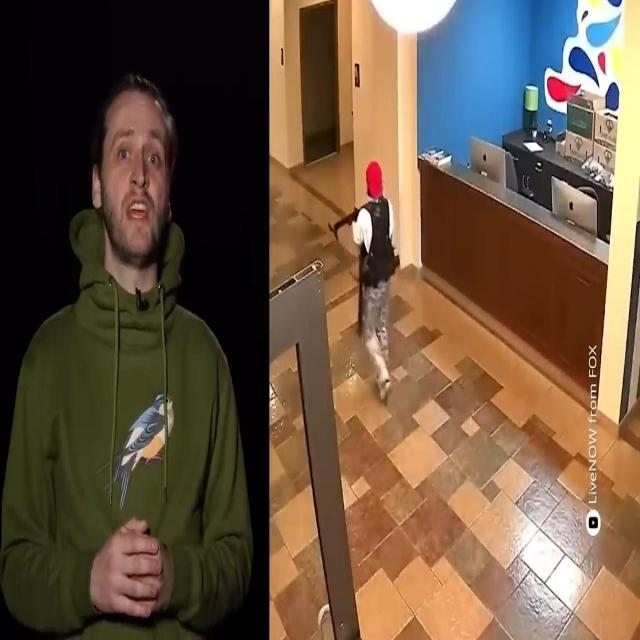pistol: (330, 202, 366, 243), (354, 254, 364, 340)
